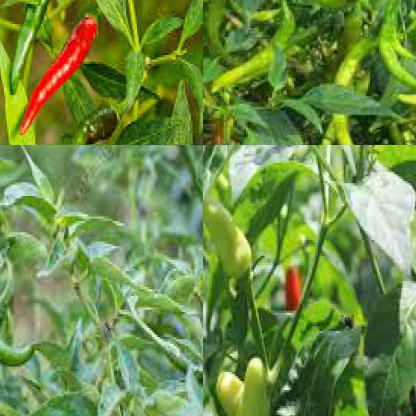Green Chilli: (207, 11, 298, 96), (0, 193, 44, 360), (8, 0, 77, 98), (203, 199, 255, 284), (318, 70, 374, 144), (332, 31, 365, 144), (375, 24, 415, 93), (67, 104, 123, 144), (236, 353, 270, 415), (215, 367, 244, 415), (395, 50, 415, 112), (272, 0, 360, 12)
